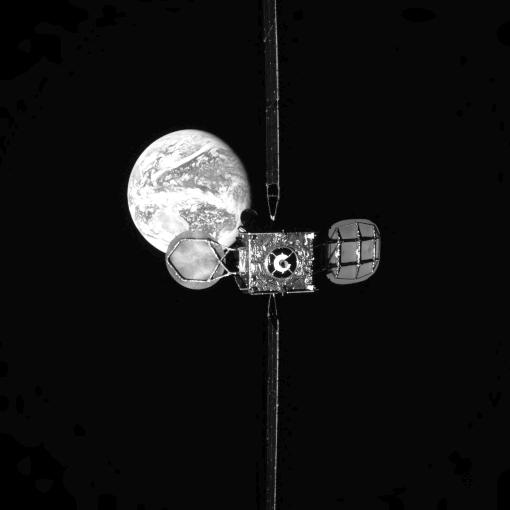antenna: (324, 216, 383, 285), (163, 230, 227, 291), (239, 207, 260, 227), (307, 231, 318, 240), (305, 283, 317, 291)
body: (233, 231, 319, 298)
solar: (260, 0, 283, 188), (263, 315, 281, 510)
thruster: (279, 259, 290, 269)
